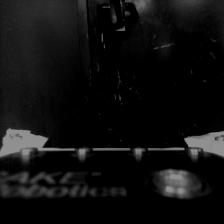Door Handle: (102, 0, 131, 24)
Lock: (100, 34, 106, 50)
